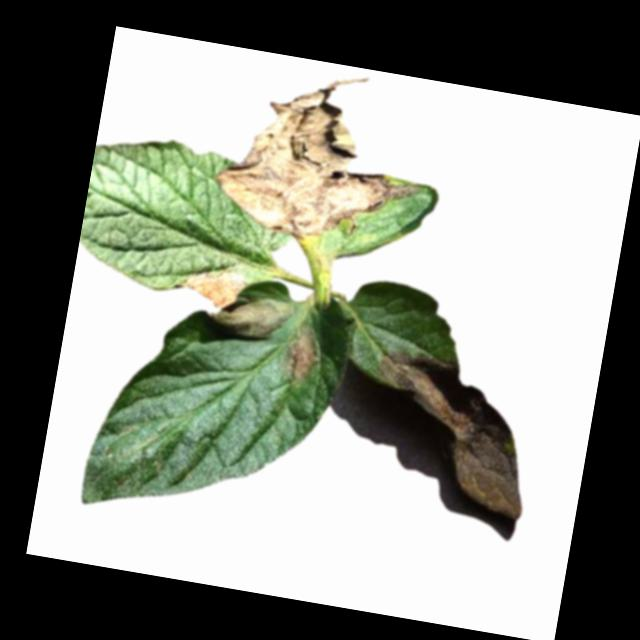Late_blight: (205, 54, 441, 256), (356, 343, 548, 520), (205, 288, 298, 345), (178, 264, 250, 313), (282, 325, 327, 386)
